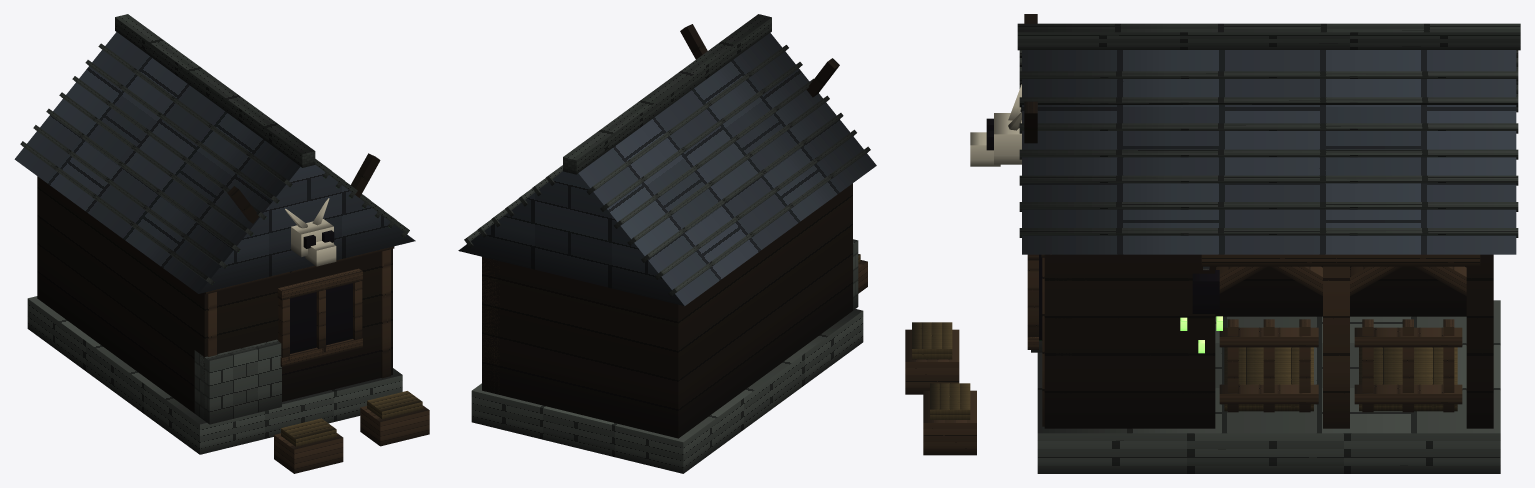
Rendered from stable.glb.
3 renders of one model, left to right at view 1: azimuth 30°, elevation 25°; view 2: azimuth 150°, elevation 25°; view 3: azimuth 270°, elevation 25°, orthographic. The views are drawn at different scales.
Visible parts, largest first — view 1: stable; view 2: stable; view 3: stable.
Part boxes in pixels (x1,y1,x2,y2): stable: [14, 14, 429, 473]; stable: [458, 14, 876, 473]; stable: [905, 14, 1520, 473].
Bounding box in the file's own units: 1.5 × 1.87 × 2.74.
Materials: 1 (1 with a texture image).
